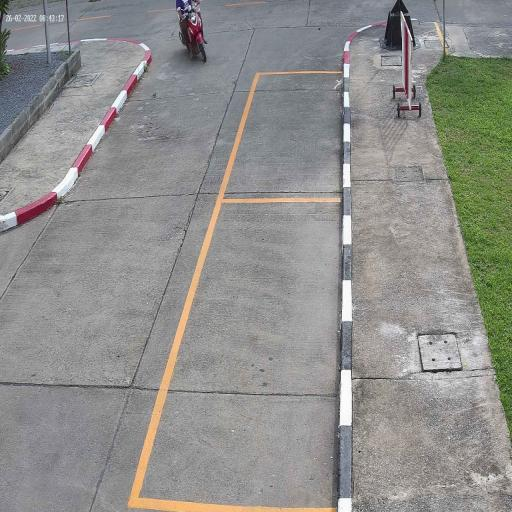motorcycle: (184, 2, 208, 66)
